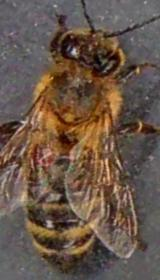varroa_mite: (29, 139, 63, 171)
